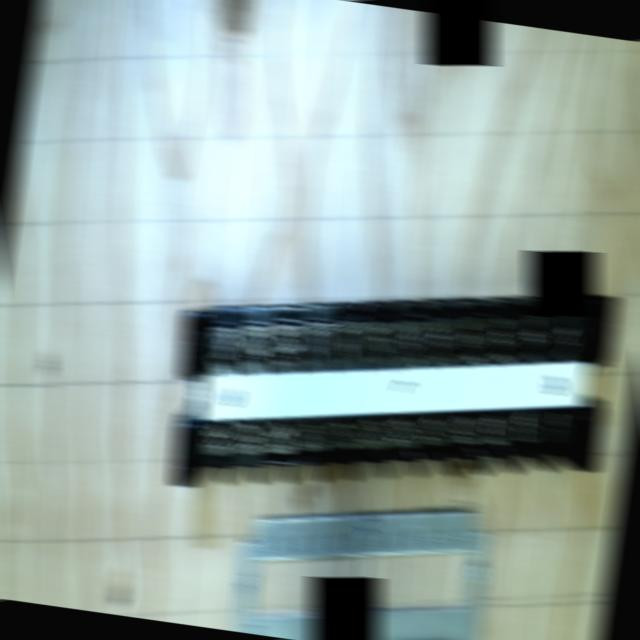Phillips_Block: (165, 297, 624, 485)
